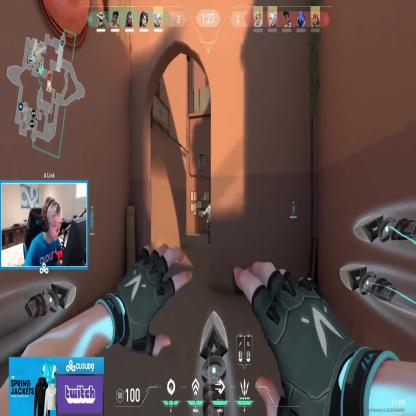enemy: (203, 200, 216, 245)
enemy_head: (208, 199, 211, 206)
